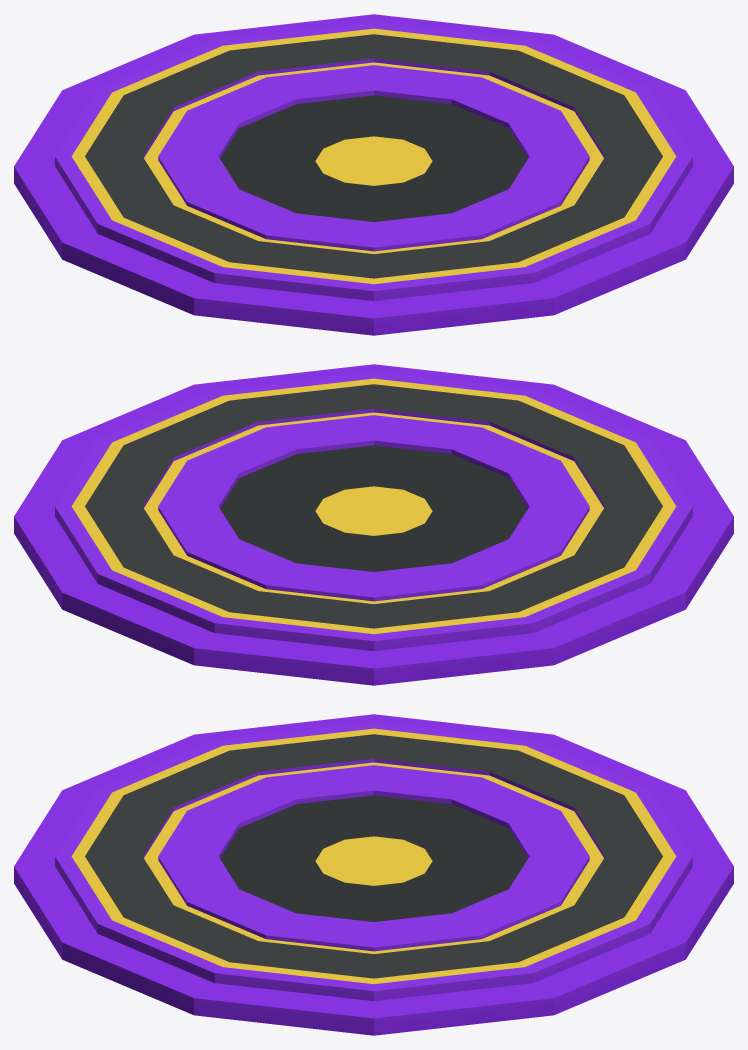
Rendered from plataforma.fbx.
The picture shows the model from 3 angles, top to bottom: view 1: azimuth 30°, elevation 25°; view 2: azimuth 150°, elevation 25°; view 3: azimuth 270°, elevation 25°; orthographic projection.
Visible parts, largest first — view 1: plataforma; view 2: plataforma; view 3: plataforma.
Boxes of the visible parts, bbox=[...] form: plataforma: bbox=[14, 14, 733, 335]; plataforma: bbox=[14, 364, 733, 685]; plataforma: bbox=[14, 714, 733, 1035].
Bounding box in the file's own units: 168 × 7.03 × 168.
